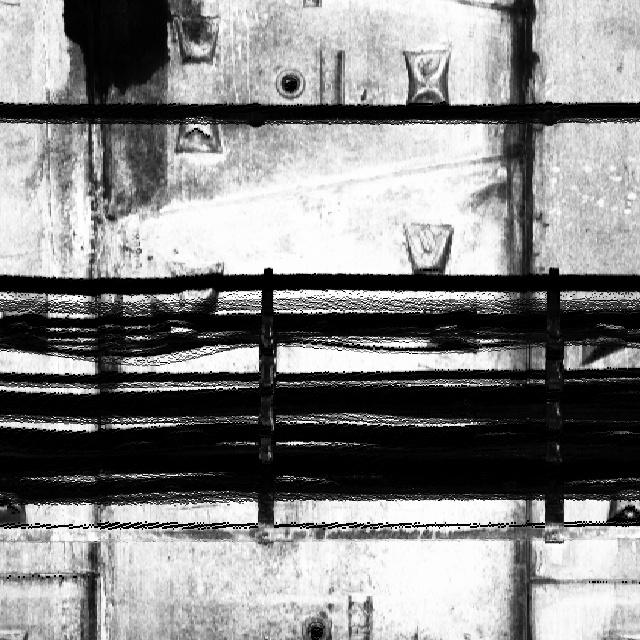leakage: (28, 0, 191, 208), (490, 0, 545, 286), (498, 500, 547, 639), (68, 516, 114, 639)
